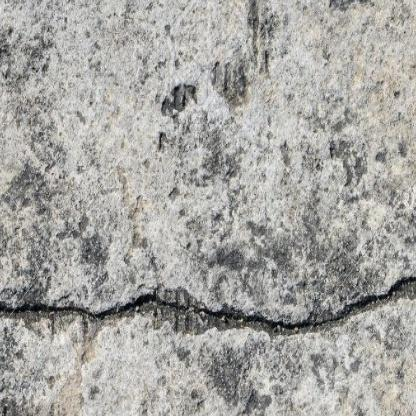Cracks: (0, 269, 416, 340)
